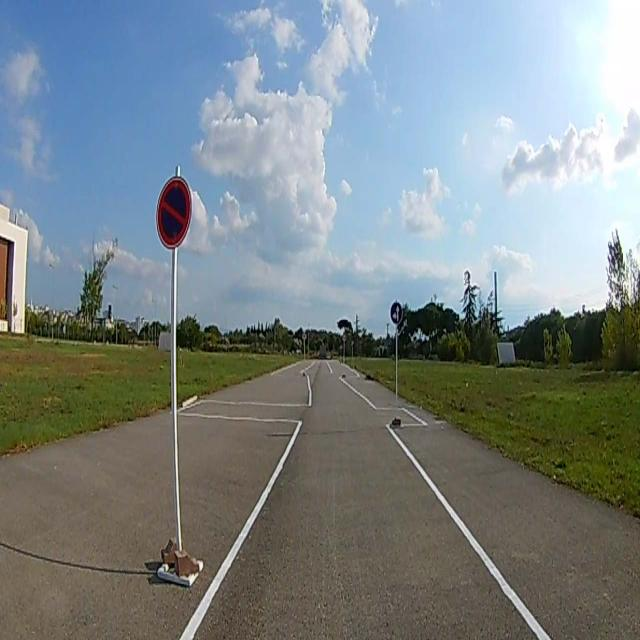ilerisol: (391, 300, 403, 322)
parkyasak: (157, 179, 191, 246)
